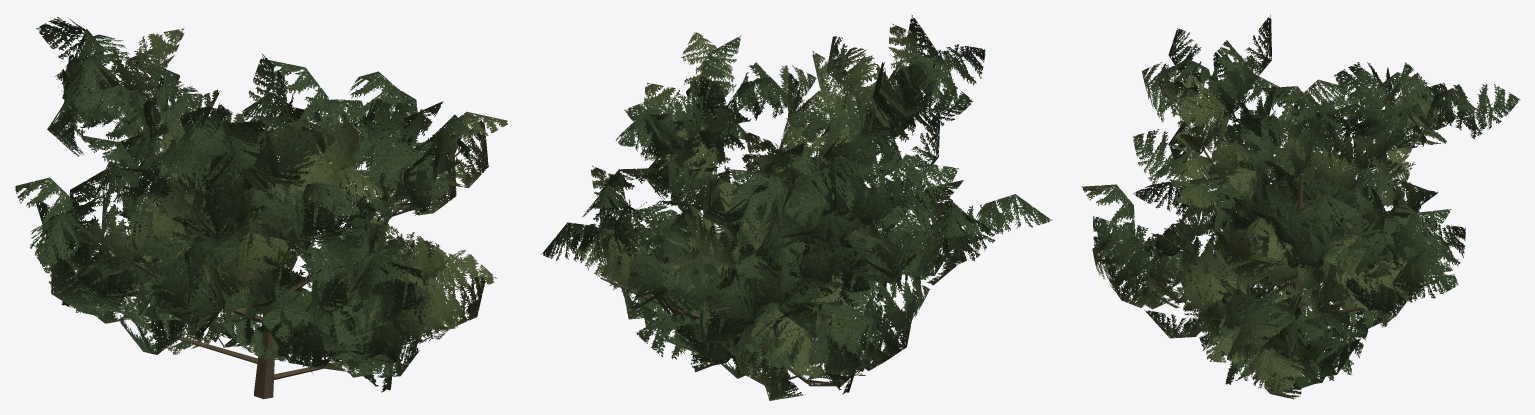
File: SM_CN_Juniper_B_LOD1.fbx
3 renders of one model, left to right at view 1: azimuth 30°, elevation 25°; view 2: azimuth 150°, elevation 25°; view 3: azimuth 270°, elevation 25°, orthographic. The views are drawn at different scales.
Parts seen in each view (by area): view 1: SM_CN_Juniper_B_LOD1; view 2: SM_CN_Juniper_B_LOD1; view 3: SM_CN_Juniper_B_LOD1.
Part boxes in pixels (bbox=[...]): SM_CN_Juniper_B_LOD1: bbox=[15, 17, 510, 399]; SM_CN_Juniper_B_LOD1: bbox=[541, 14, 1052, 400]; SM_CN_Juniper_B_LOD1: bbox=[1081, 14, 1520, 399].
Bounding box in the file's own units: 3.31 × 3.5 × 2.65.
